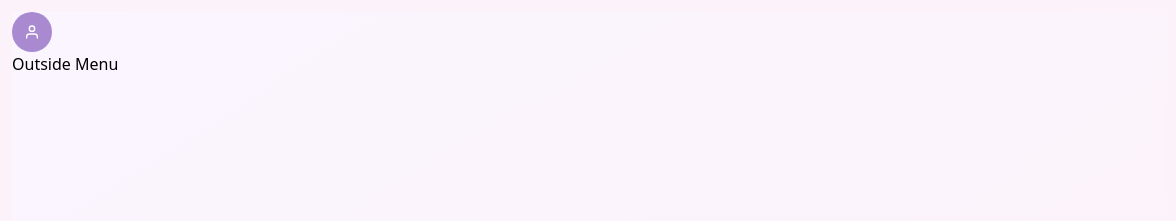
it: UserMenu › displays account controls when opened
The image size is (1176, 221).
Click the button: (32, 32) [12,12,52,52]
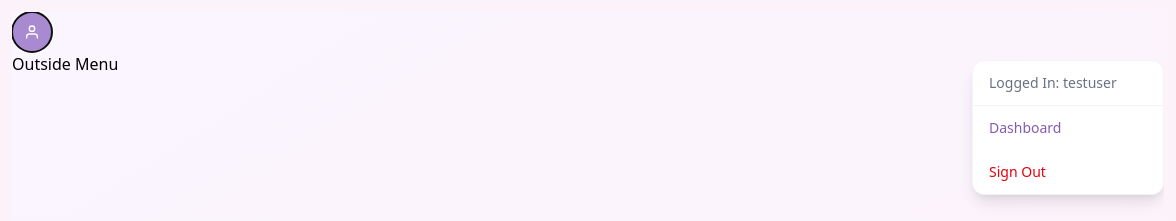
Expected: the text "Logged In: testuser" is shown, [973,61,1163,106]
Expected: the link "Dashboard" is shown, [989,118,1062,137]
Expected: the button "Sign Out" is shown, [973,150,1163,194]
